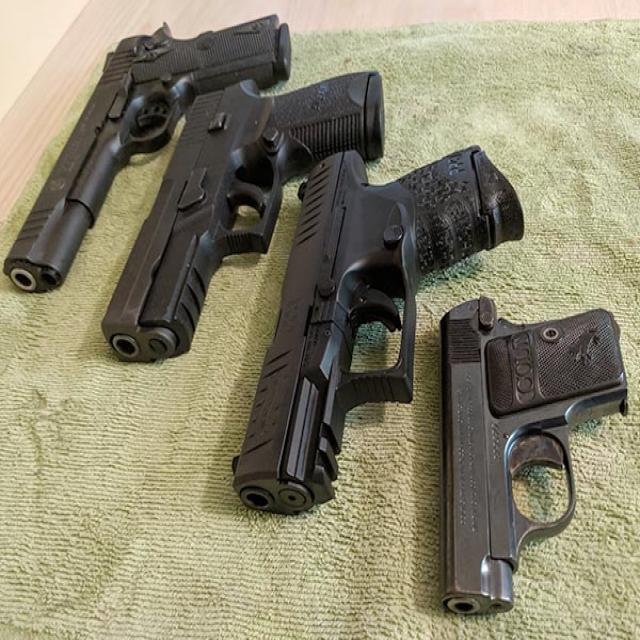Weapon: (223, 137, 515, 512), (102, 61, 392, 382), (3, 20, 298, 308), (432, 281, 637, 622)
